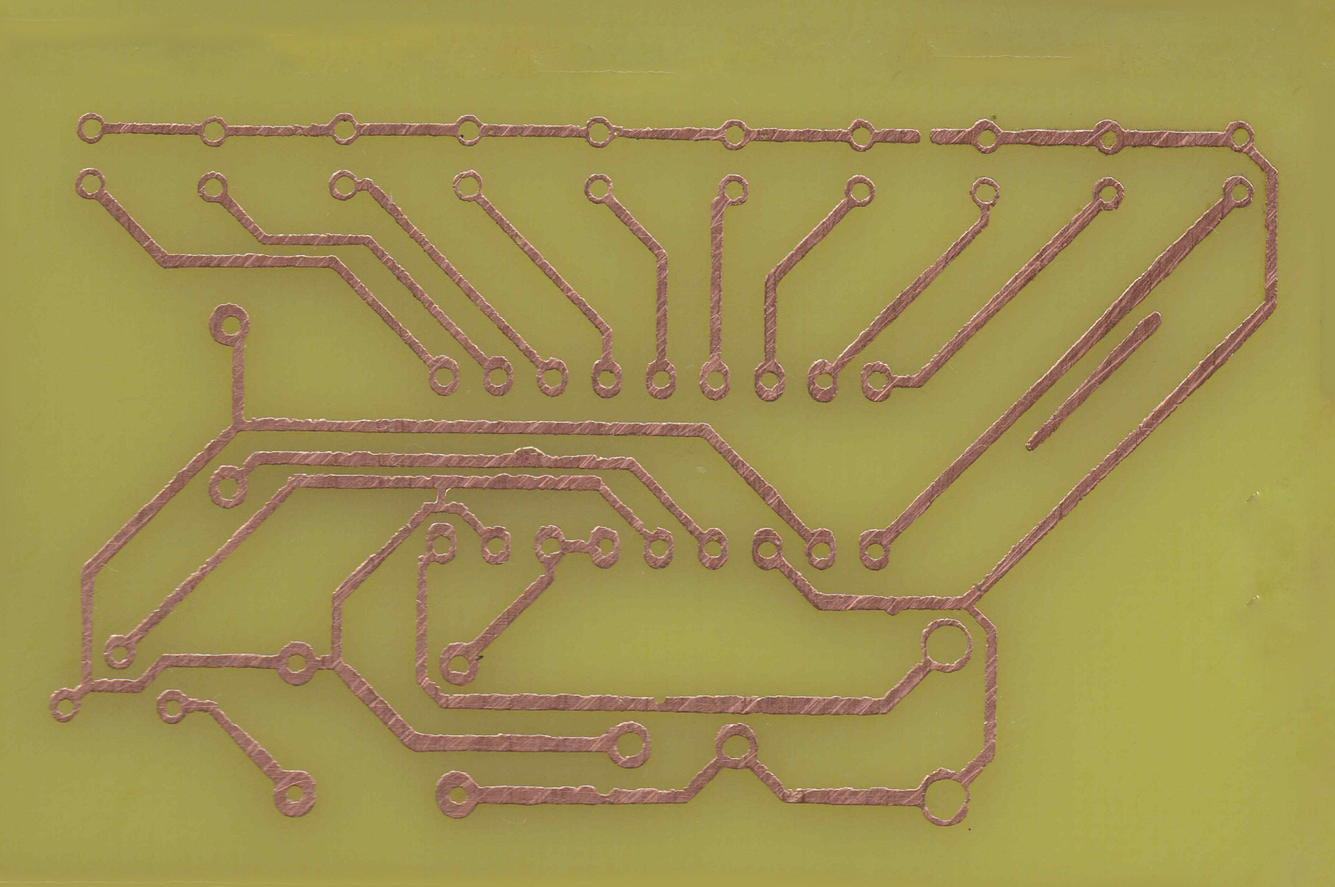mouse_bite: (586, 779, 621, 809), (647, 691, 672, 715)
open_circuit: (909, 125, 937, 149)
short: (428, 470, 452, 514)
spur: (501, 440, 550, 471), (882, 592, 903, 618)
spurious_copper: (1022, 307, 1166, 455)
